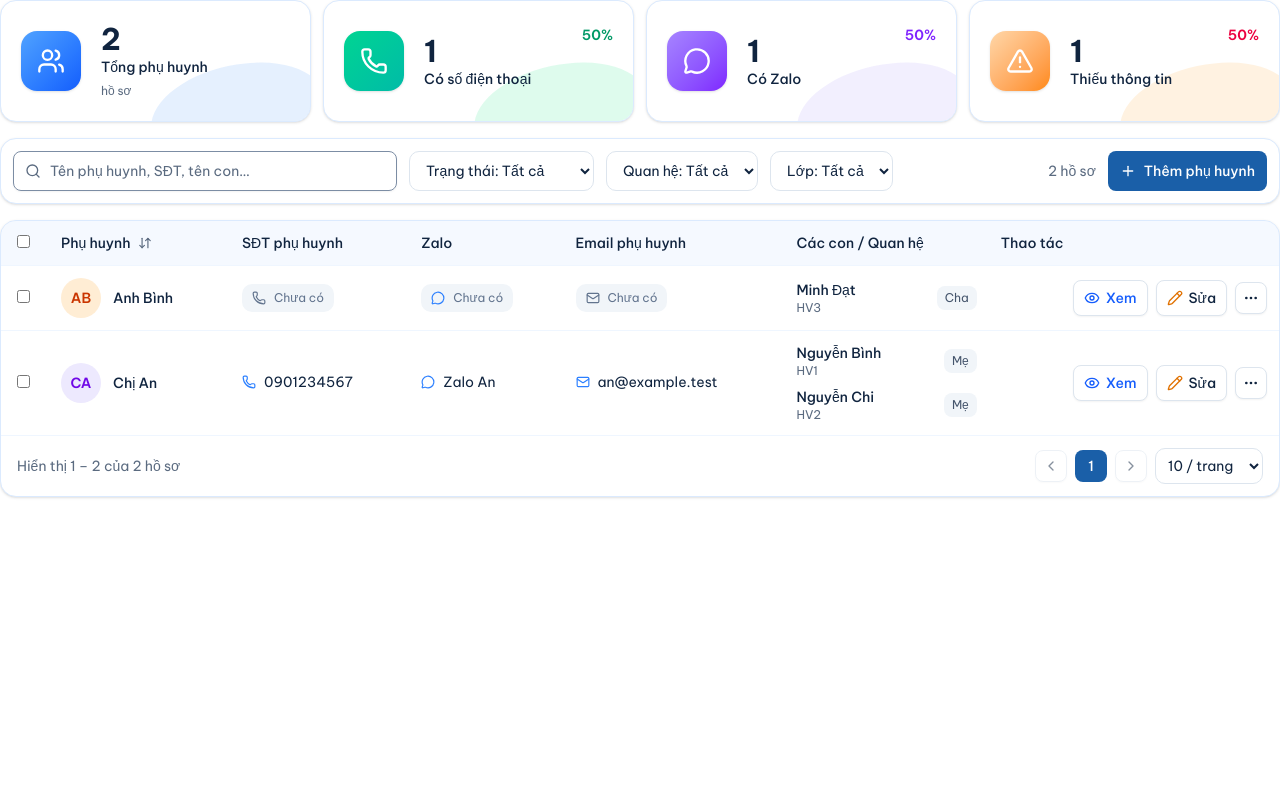
opens missing contacts in a popup while preserving the main table
Expected: the button with aria-label "Tổng phụ huynh: 2" is shown, 0,0 -> 311,122
Step 1. Click the button with aria-label "Thiếu thông tin: 1" → (1124, 61), box 969,0 -> 1279,122
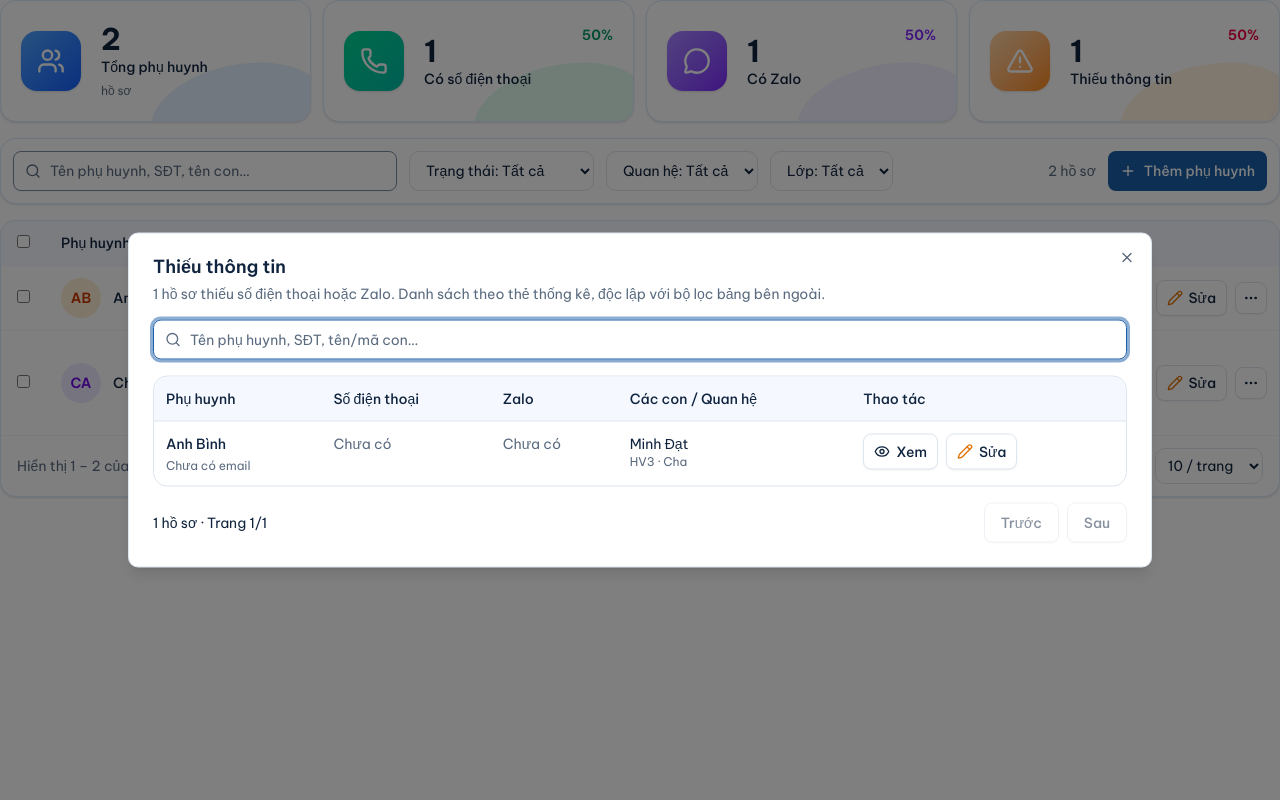
Expected: the dropdown named "Lọc trạng thái phụ huynh" shows "Trạng thái: Tất cả", 409,151 -> 594,191
Now the text "Anh Bình" is shown, box 166,434 -> 226,452
